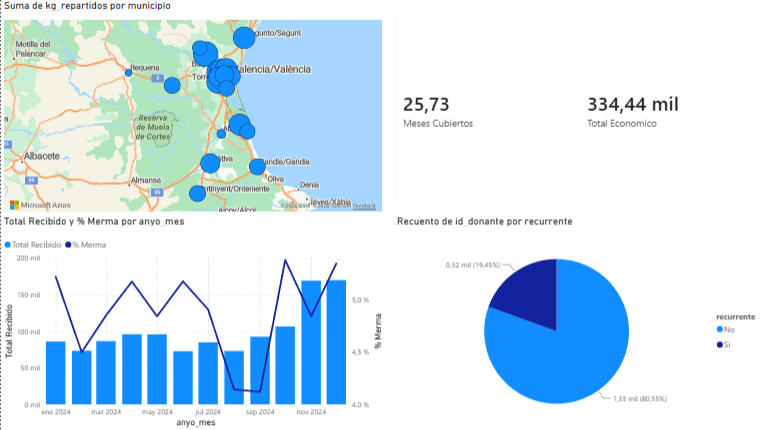

What the dashboard file says about the page in this screenshot:
{"tool":"powerbi","page":{"name":"Resumen Operativo","canvas":[1280,720],"ordinal":0},"visuals":[{"type":"lineClusteredColumnComboChart","fields":{"Category":["dim_calendario.anyo_mes"],"Y":["fact_entradas.Total Recibido"],"Y2":["fact_entradas.% Merma"]},"box":[0,360,640,360],"z":1000},{"type":"pieChart","fields":{"Category":["fact_donaciones_eco.recurrente"],"Y":["CountNonNull(fact_donaciones_eco.id_donante)"]},"box":[655,360,625,360],"z":4000},{"type":"azureMap","fields":{"Category":["dim_entidad.municipio"],"Size":["Sum(fact_repartos.kg_repartidos)"]},"box":[0,0,640,360],"z":5000},{"type":"cardVisual","fields":{"Data":["fact_donaciones_eco.Meses Cubiertos","fact_donaciones_eco.Total Economico"]},"box":[640,5,640,355],"z":6000}]}

Visuals, with their boxes in screenshot pixels (x1, y1, x2, y2), scaled from the page's 1280x720 canvas onto the 768x430 screenshot:
lineClusteredColumnComboChart - dim_calendario.anyo_mes x fact_entradas.Total Recibido: 0:215:384:429
pieChart - fact_donaciones_eco.recurrente x CountNonNull(fact_donaciones_eco.id_donante): 393:215:767:429
azureMap - dim_entidad.municipio x Sum(fact_repartos.kg_repartidos): 0:0:384:215
cardVisual - fact_donaciones_eco.Meses Cubiertos x fact_donaciones_eco.Total Economico: 384:3:767:215
